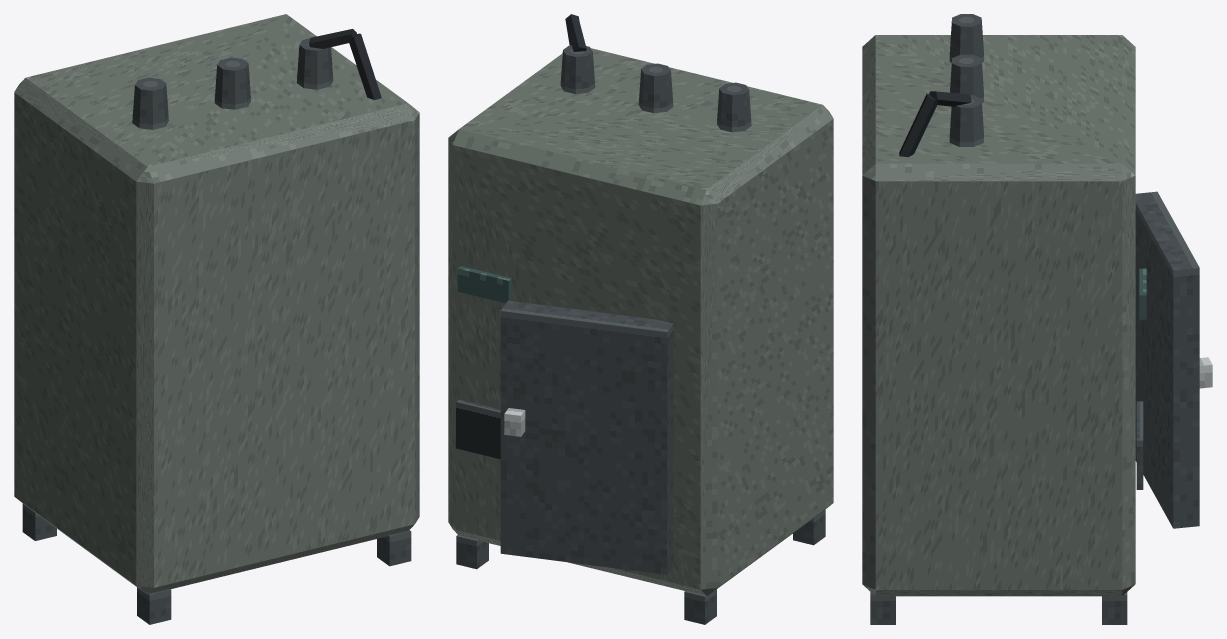
Rendered from f_exodii_kiln.glb.
3 views of the same model, side by side, from view 1: azimuth 30°, elevation 25°; view 2: azimuth 150°, elevation 25°; view 3: azimuth 270°, elevation 25° (orthographic). The views are drawn at different scales.
Parts seen in each view (by area): view 1: block_insulated-heating-chamber, block_insulated-service-terminal (×3), block_leg--0.40199999999999997-0.332, block_leg-0.40199999999999997-0.332, block_shielded-supply-line-2, block_leg--0.40199999999999997--0.332, block_shielded-supply-line-1; view 2: block_insulated-heating-chamber, block_heating-chamber-door, block_insulated-service-terminal (×3), block_thermal-slotted-intake, block_heat-controller, block_leg--0.40199999999999997--0.332, block_leg-0.40199999999999997--0.332, block_leg--0.40199999999999997-0.332, block_door-draw-latch; view 3: block_insulated-heating-chamber, block_heating-chamber-door, block_insulated-service-terminal (×3), block_shielded-supply-line-2, block_leg-0.40199999999999997--0.332, block_leg-0.40199999999999997-0.332, block_thermal-slotted-intake, block_shielded-supply-line-1.
Part boxes in pixels (x1,y1,x2,y2): block_insulated-heating-chamber: [14, 14, 419, 594]; block_insulated-service-terminal (×3): [132, 38, 333, 129]; block_leg--0.40199999999999997-0.332: [137, 587, 171, 624]; block_leg-0.40199999999999997-0.332: [377, 530, 411, 566]; block_shielded-supply-line-2: [349, 33, 381, 99]; block_leg--0.40199999999999997--0.332: [22, 503, 56, 540]; block_shielded-supply-line-1: [308, 29, 356, 48]; block_insulated-heating-chamber: [448, 48, 833, 595]; block_heating-chamber-door: [500, 300, 673, 574]; block_insulated-service-terminal (×3): [560, 45, 751, 132]; block_thermal-slotted-intake: [456, 399, 500, 459]; block_heat-controller: [457, 266, 512, 303]; block_leg--0.40199999999999997--0.332: [684, 589, 716, 624]; block_leg-0.40199999999999997--0.332: [456, 535, 488, 569]; block_leg--0.40199999999999997-0.332: [793, 509, 825, 545]; block_door-draw-latch: [504, 408, 525, 436]; block_insulated-heating-chamber: [862, 35, 1135, 596]; block_heating-chamber-door: [1135, 191, 1199, 528]; block_insulated-service-terminal (×3): [949, 14, 983, 146]; block_shielded-supply-line-2: [899, 93, 937, 157]; block_leg-0.40199999999999997--0.332: [1102, 592, 1127, 624]; block_leg-0.40199999999999997-0.332: [870, 592, 895, 624]; block_thermal-slotted-intake: [1136, 401, 1143, 489]; block_shielded-supply-line-1: [929, 91, 971, 106].
Size of the model in its own units: 0.95 by 1.65 by 1.01.
1 material, 1 textured.
